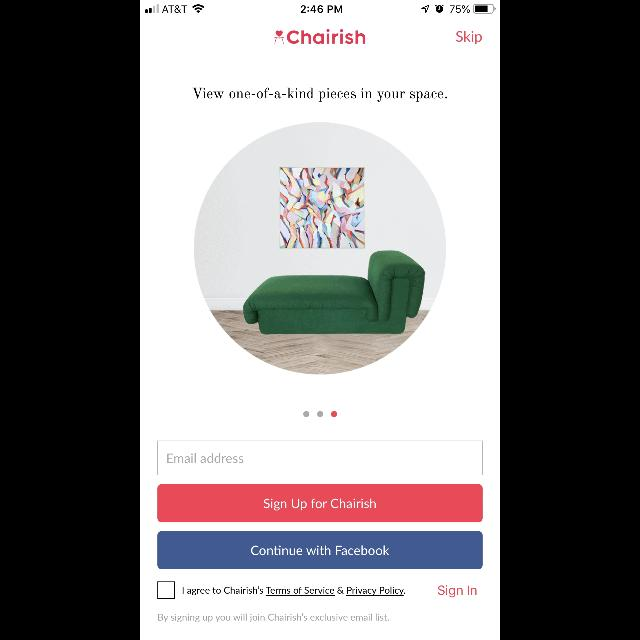checkbox: (158, 582, 175, 598)
image: (194, 122, 446, 374), (274, 31, 284, 44)
input: (158, 440, 482, 476)
pageindicator: (303, 411, 337, 417)
text: (192, 88, 448, 102), (182, 586, 406, 596), (159, 614, 389, 622), (286, 30, 366, 44), (168, 453, 244, 463), (438, 584, 477, 598), (456, 31, 482, 45)
textbutton: (158, 484, 482, 522), (158, 531, 482, 569)
uppertaskbar: (140, 0, 500, 14)
